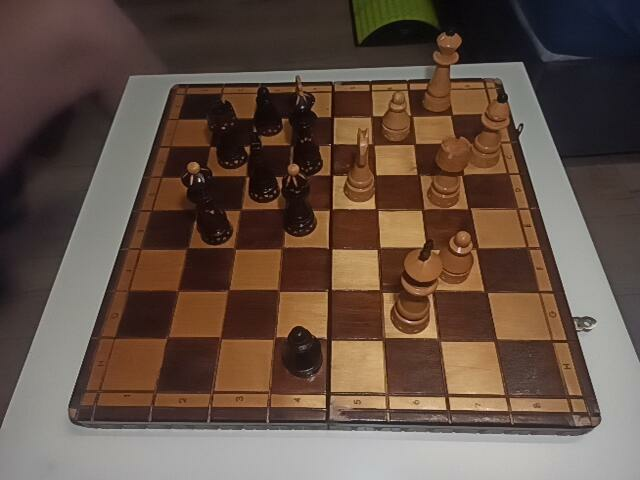B-Bishop: (281, 164, 317, 237)
B-King: (290, 75, 323, 174)
B-Knight: (247, 131, 278, 201)
B-Pawn: (284, 327, 323, 379), (254, 86, 283, 136)
B-Queen: (179, 162, 233, 244)
B-Rook: (205, 101, 247, 168)
W-Bishop: (471, 93, 508, 168)
W-King: (394, 240, 440, 335)
W-Knight: (343, 127, 375, 201)
W-Pawn: (437, 230, 475, 286), (382, 92, 411, 142)
W-Queen: (425, 28, 460, 113)
W-Rook: (427, 137, 470, 207)
